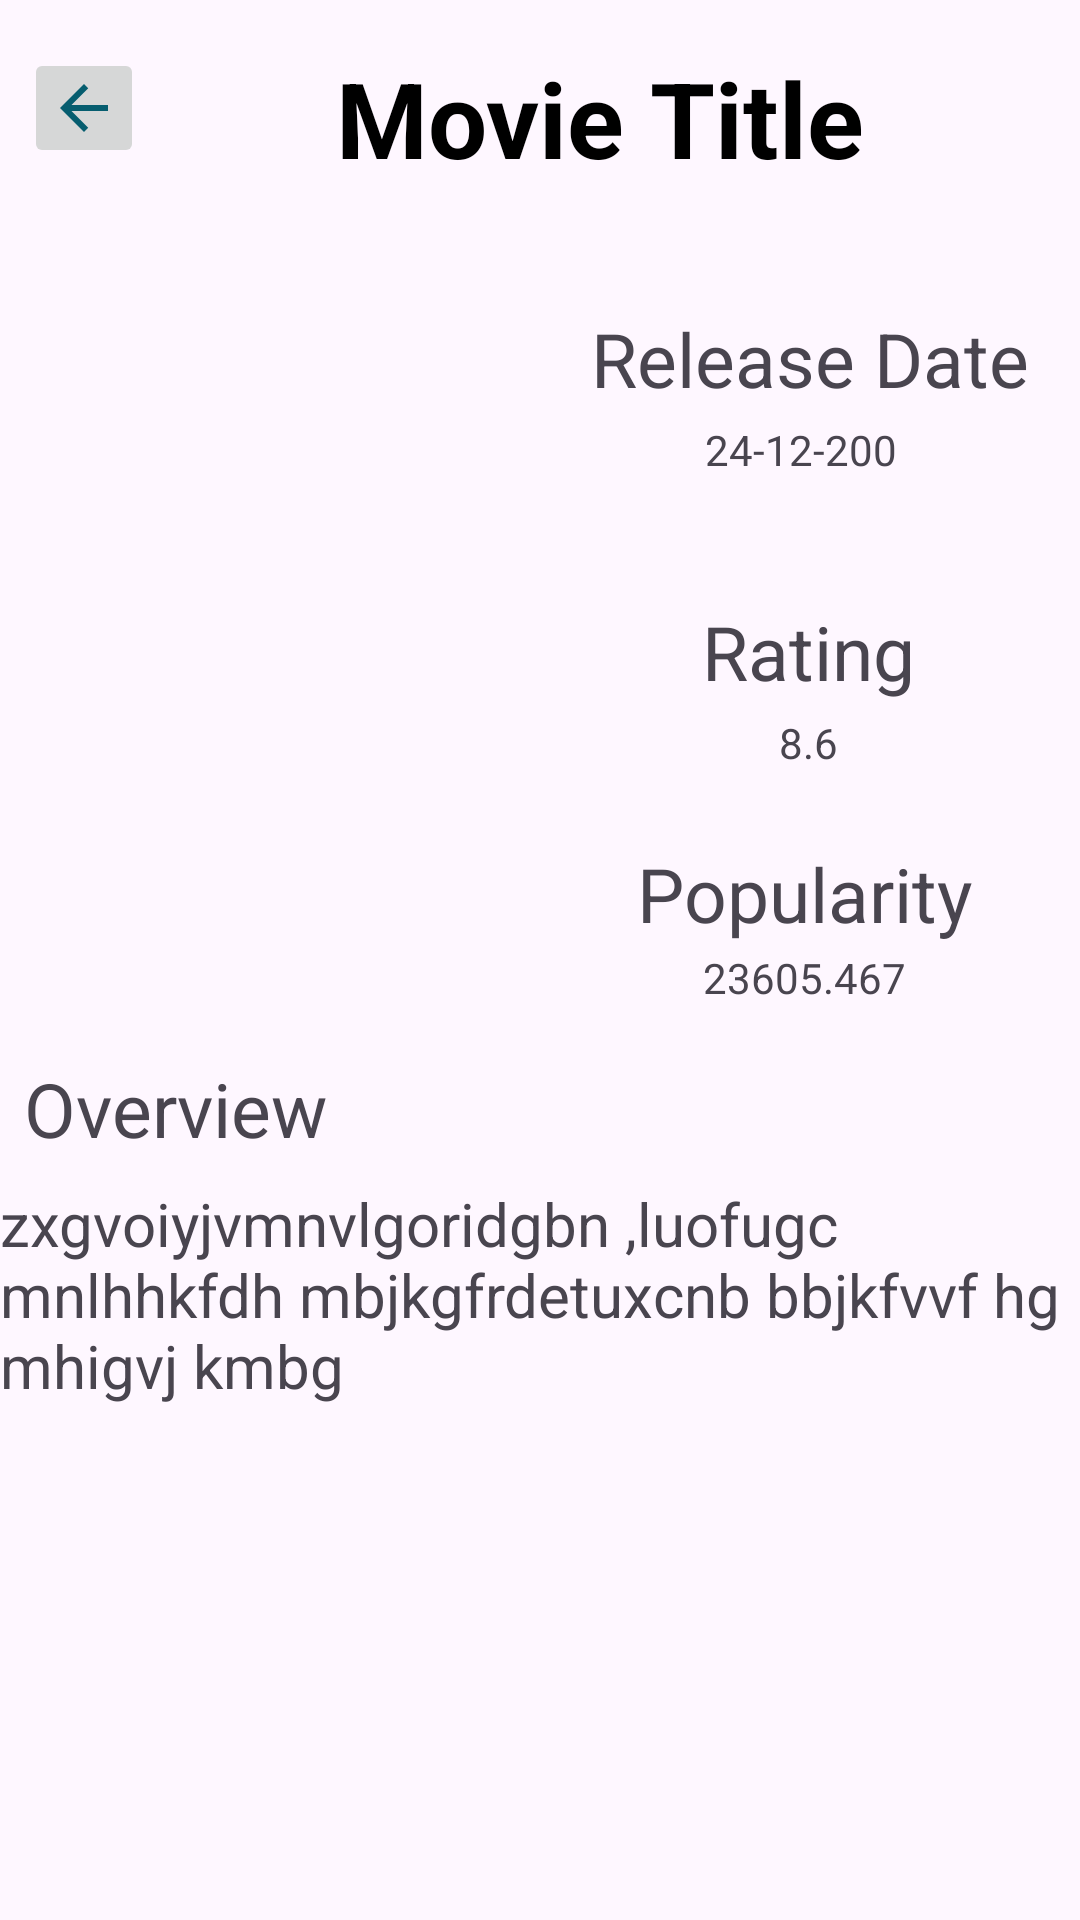

Screen size 1080×1920. Icon name, then its box in pixels as region(x1, y1, x2, y2):
arrow back: region(36, 66, 132, 150)
